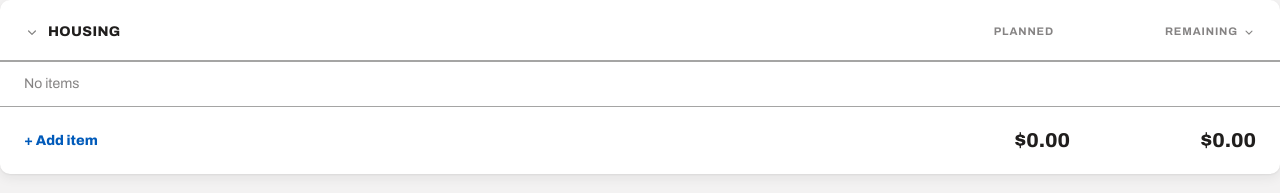
it: BudgetGroupCard income inference › offers "Spent" as the metric alternative for an empty group
Click the button "Remaining".
click(1171, 32)  # box [1086,24,1256,40]
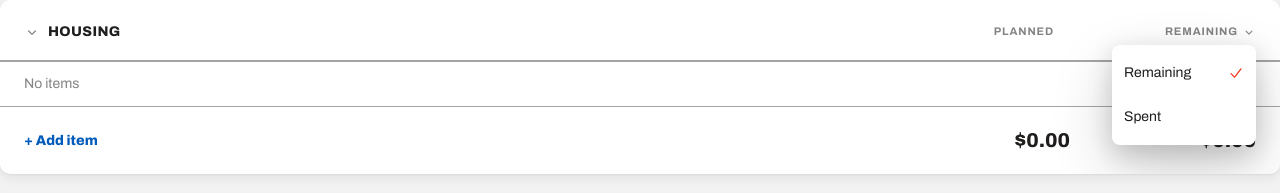
Now the text "Spent" is shown, box [1124,106,1161,126]
